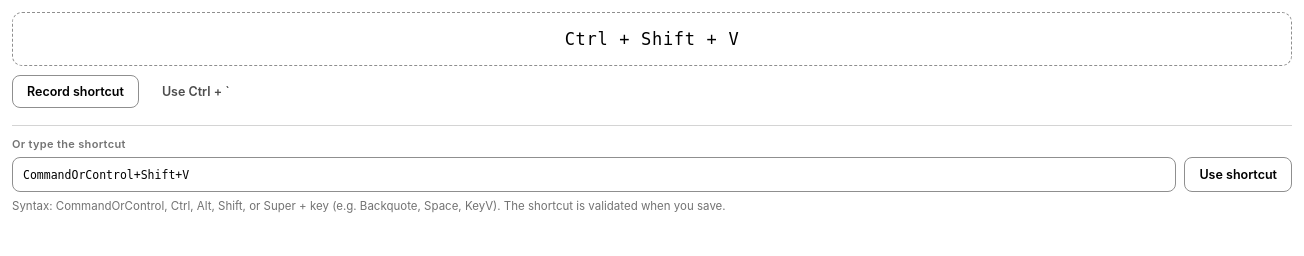
HotkeyRecorder › cancels recording with Escape
Click the button "Record shortcut" at [75, 92], box top-left (12, 75), bottom-right (139, 108)
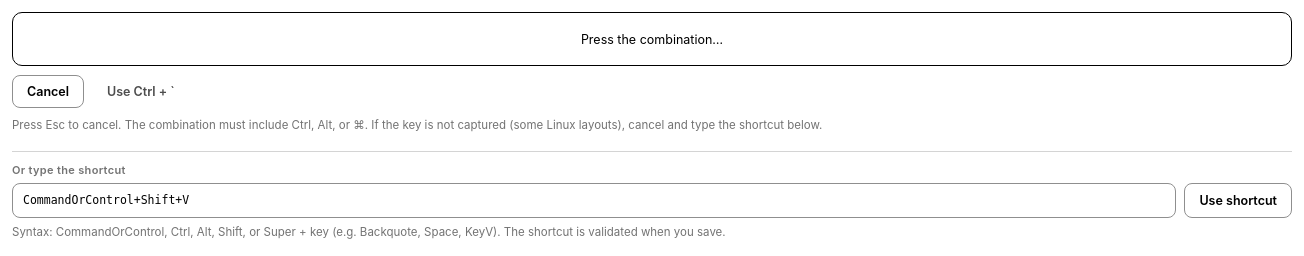
Result: the text "Press the combination…" is shown at top-left (581, 32), bottom-right (723, 46)
Press Escape
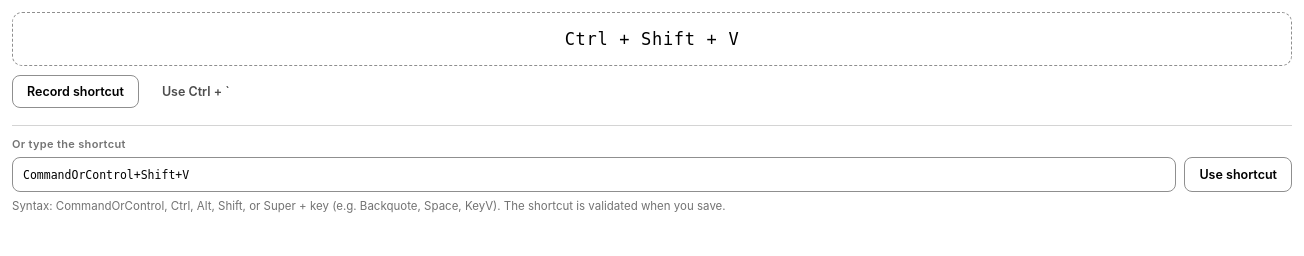
Result: the text "Press the combination…" is gone
